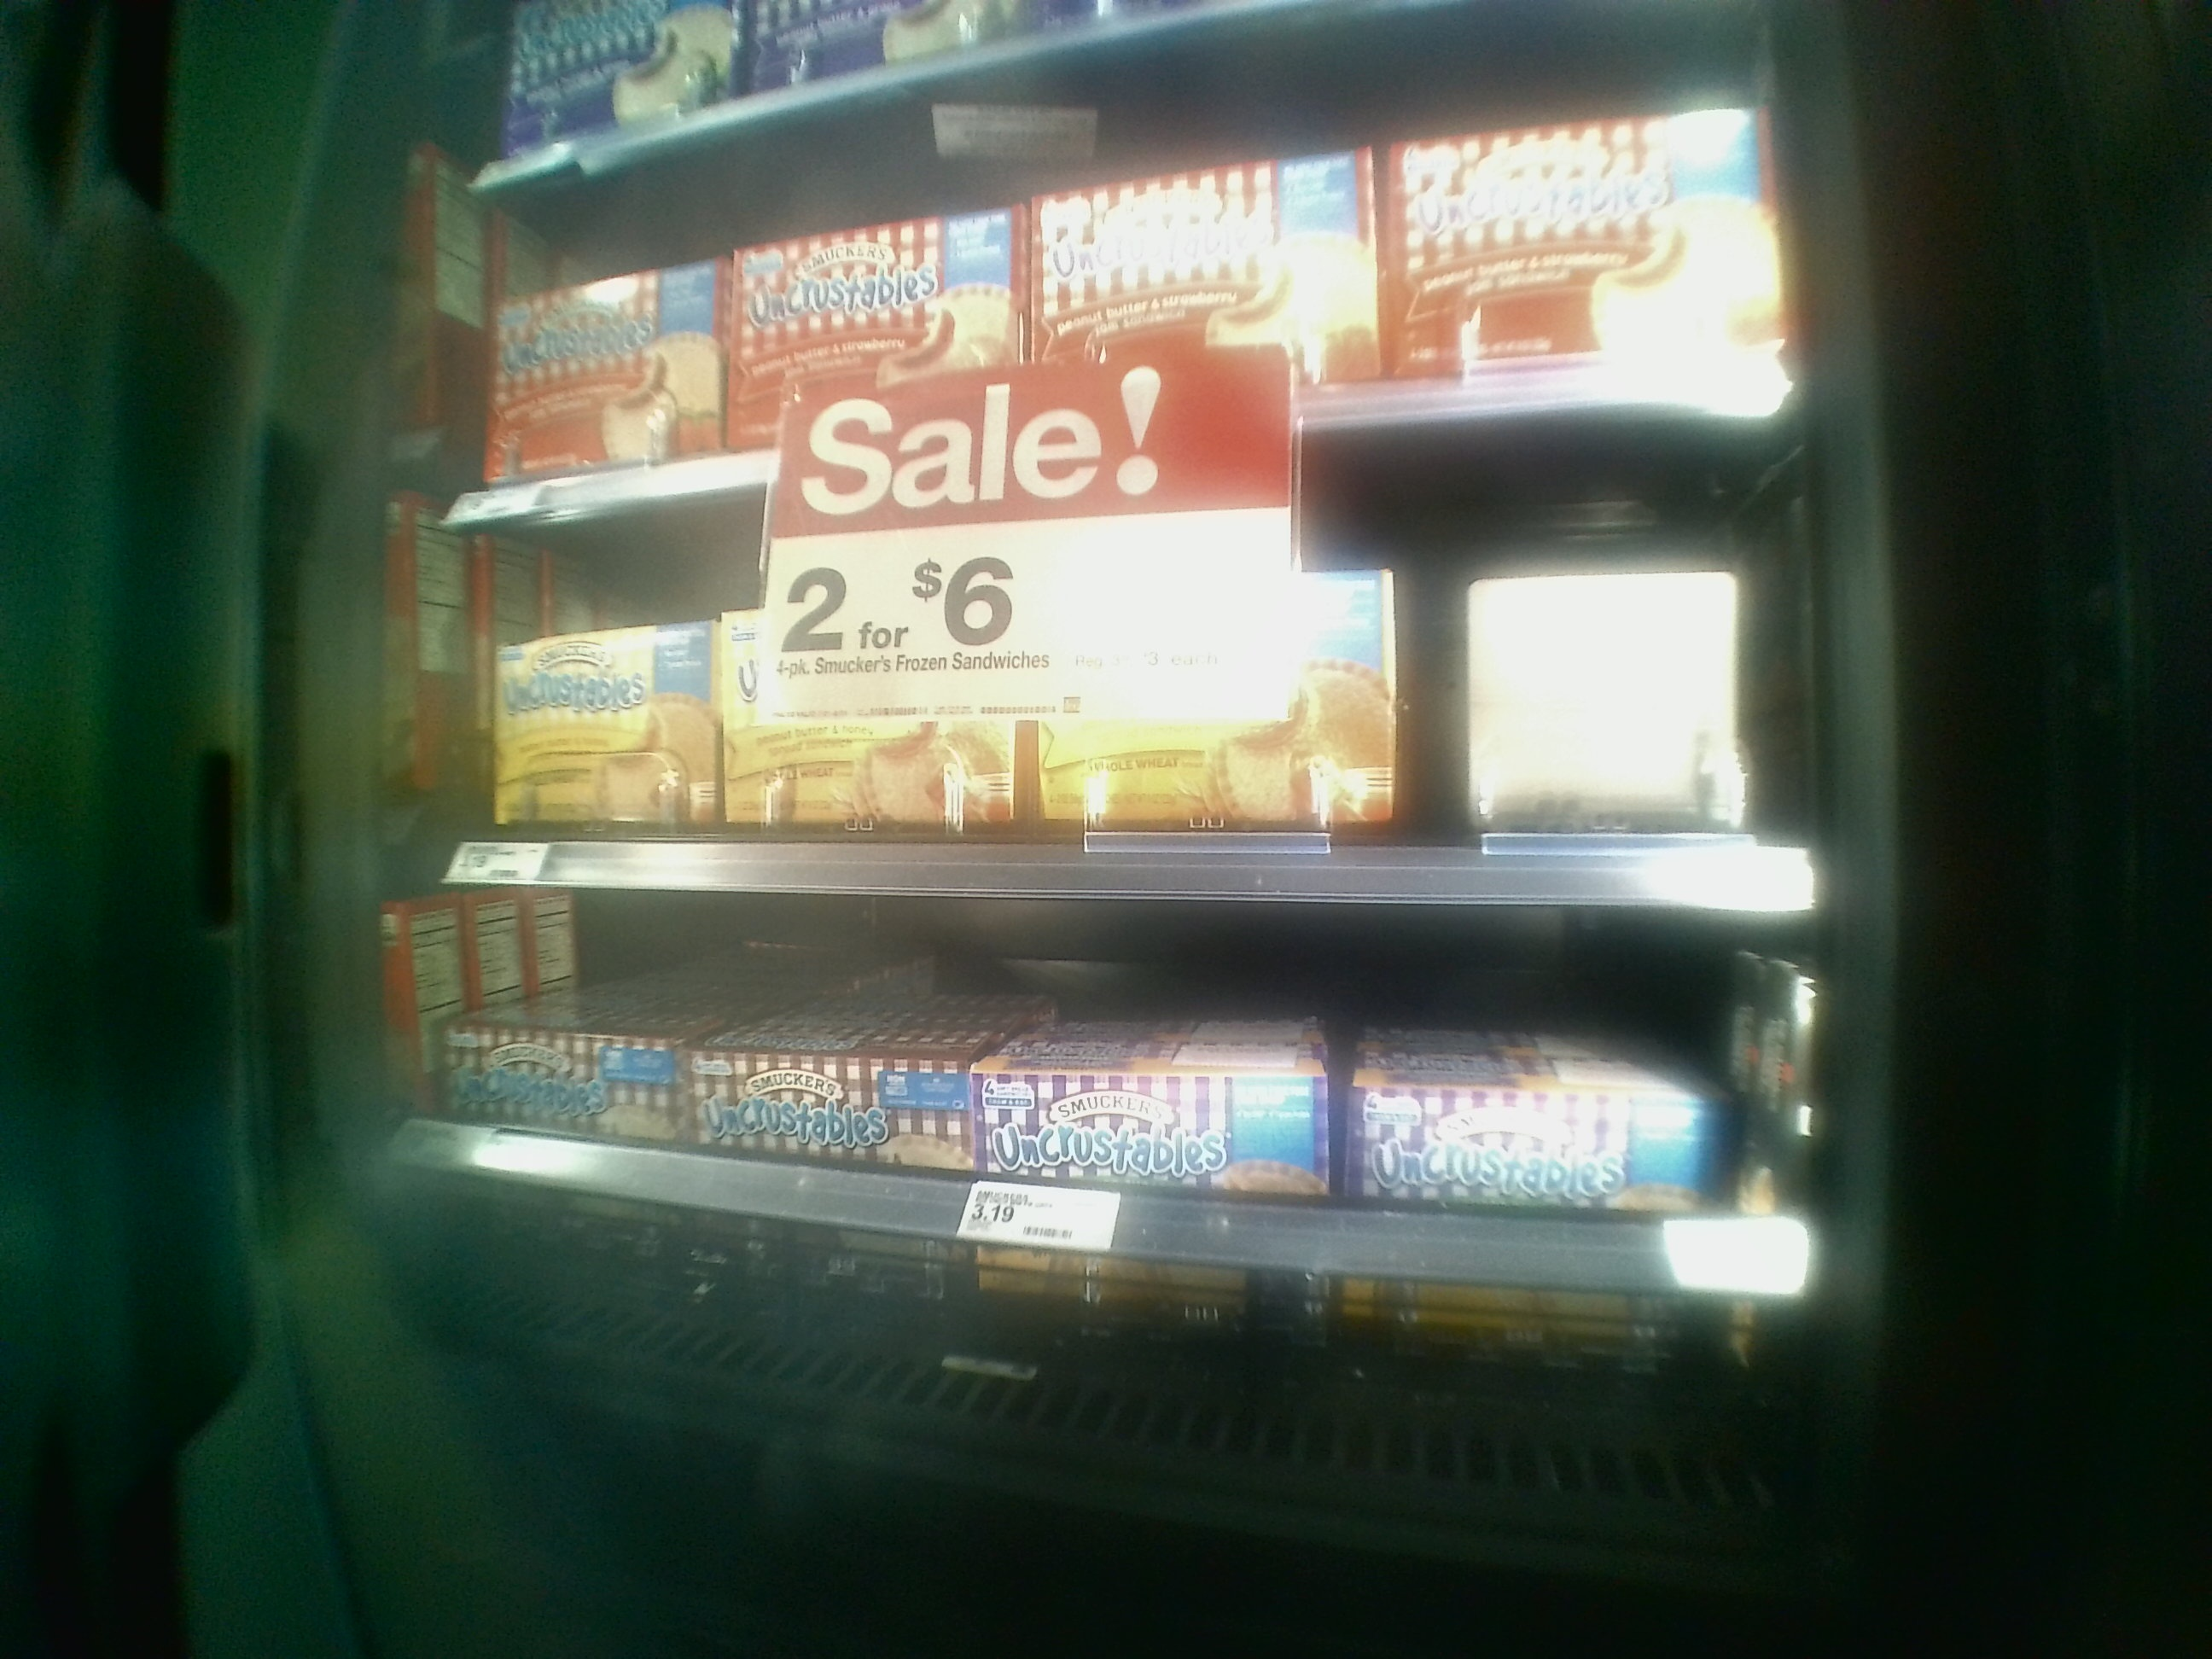shelf: (423, 871, 1811, 1309), (435, 504, 1817, 903)
